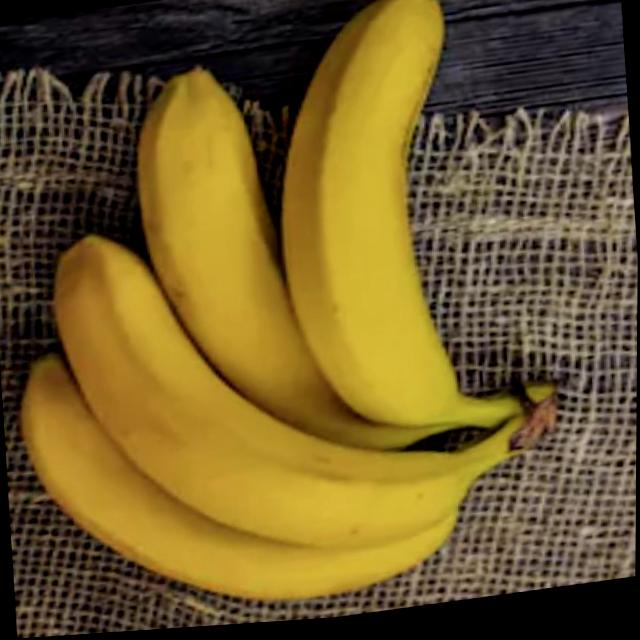Banana: (0, 0, 572, 640)
